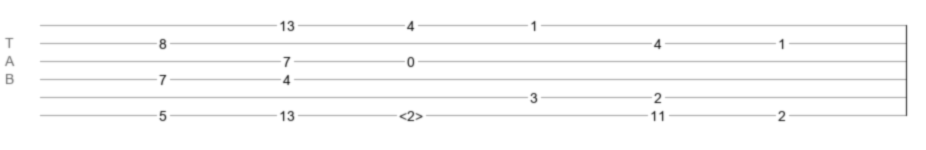0: (407, 54, 415, 64)
1: (530, 18, 538, 28), (778, 36, 786, 46)
11: (650, 108, 666, 118)
13: (279, 108, 295, 118), (279, 18, 295, 28)
2: (654, 90, 662, 100), (778, 108, 786, 118)
3: (530, 90, 538, 100)
4: (283, 72, 291, 82), (407, 18, 415, 28), (654, 36, 662, 46)
5: (159, 108, 167, 118)
7: (159, 72, 167, 82), (283, 54, 291, 64)
8: (159, 36, 167, 46)
harmonic: (399, 108, 423, 118)
